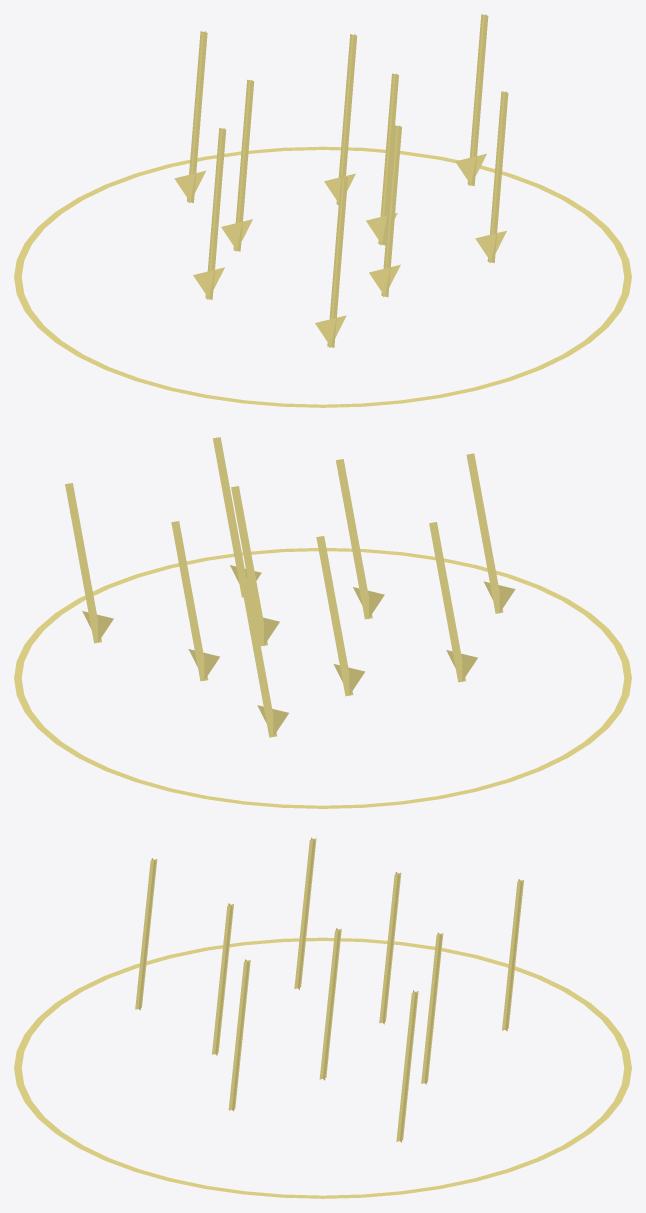
File: archer.glb
The picture shows the model from 3 angles, top to bottom: view 1: azimuth 30°, elevation 25°; view 2: azimuth 150°, elevation 25°; view 3: azimuth 270°, elevation 25°; orthographic projection.
Parts seen in each view (by area): view 1: archer_ultimate; view 2: archer_ultimate; view 3: archer_ultimate.
Part boxes in pixels (<box>): archer_ultimate: <box>14,14,631,407</box>; archer_ultimate: <box>14,437,631,808</box>; archer_ultimate: <box>14,837,631,1198</box>.
Bounding box in the file's own units: 2 × 0.6371 × 2.
